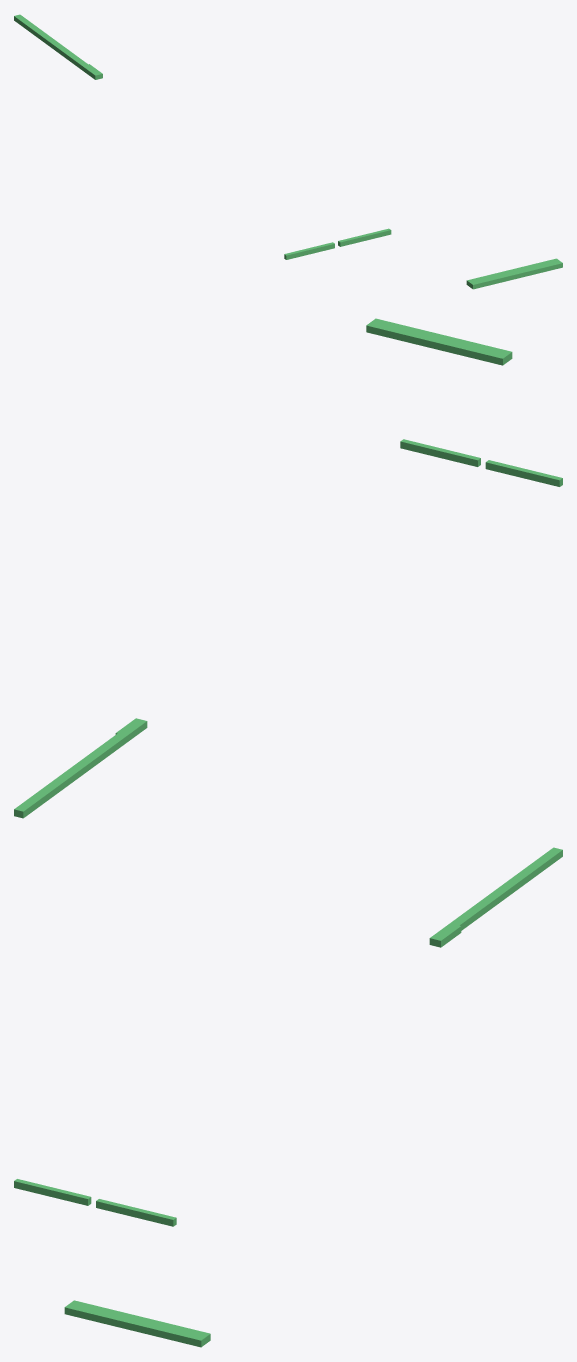
The model's file is small_parks.glb.
3 renders of one model, top to bottom at view 1: azimuth 30°, elevation 25°; view 2: azimuth 150°, elevation 25°; view 3: azimuth 330°, elevation 25°, orthographic. The views are drawn at different scales.
Visible parts, largest first — view 1: world; view 2: world; view 3: world.
Part boxes in pixels (left/top/right/bottom): world: left=14, top=14, right=562, bottom=289; world: left=14, top=318, right=562, bottom=818; world: left=14, top=847, right=562, bottom=1347.
Bounding box in the file's own units: 46.6 × 1 × 158.
